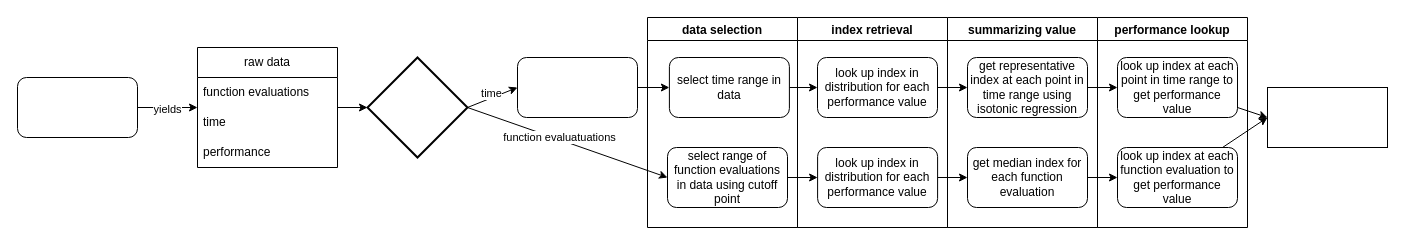
Some shapes in this 1405 by 245 pixel diagram are drawn without their labels. The shapes that lost their labels are listed below. From the top down, each one's centre as x and y in pixels, then its label:
At point 77,107: "run experiment for optimization algorithm on individual search space".
At point 417,107: "select range metric".
At point 577,87: "convert cutoff points in time to range".
At point 1327,117: "performance curve over range".
